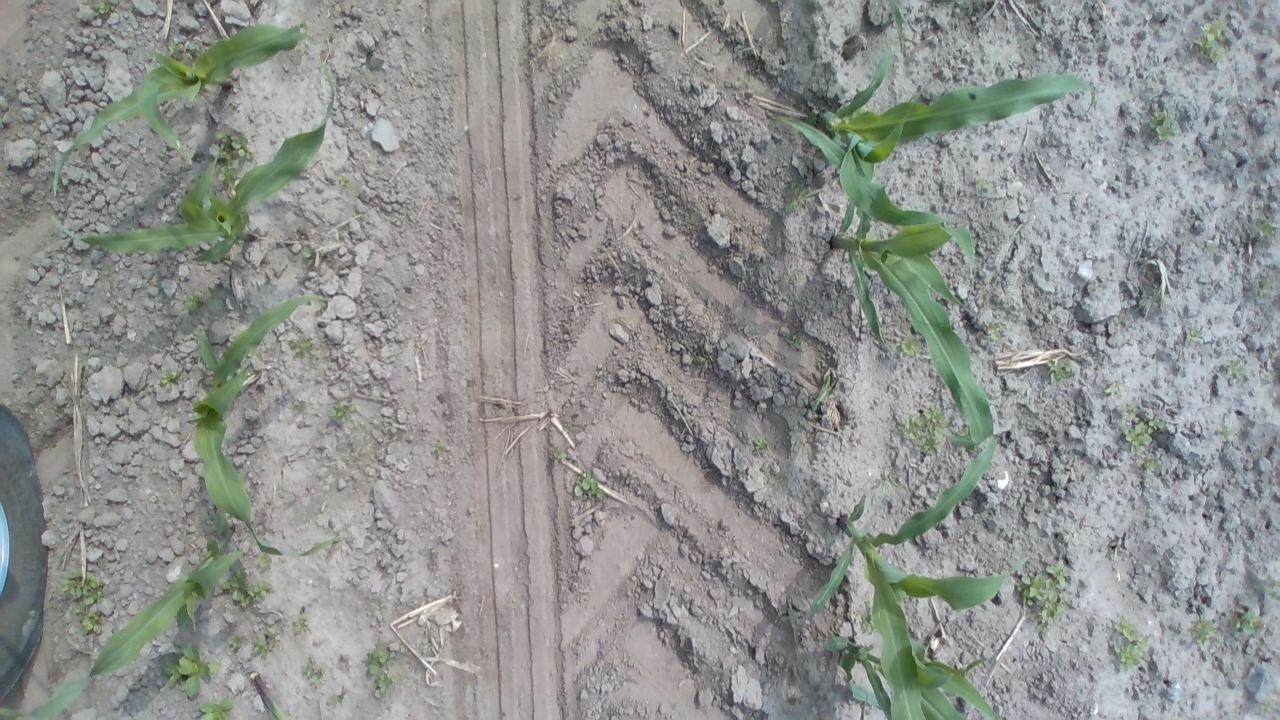Maize: (778, 115, 996, 450), (808, 435, 1030, 720), (50, 56, 336, 264), (806, 35, 1096, 227), (50, 23, 312, 202), (1, 548, 245, 720), (196, 292, 343, 557), (824, 633, 1000, 720), (248, 671, 290, 720), (888, 0, 904, 32)
Weeds: (1012, 559, 1070, 641), (160, 641, 221, 700), (894, 401, 950, 461), (1120, 400, 1166, 456), (361, 635, 399, 698), (1110, 614, 1151, 672), (223, 568, 276, 610), (58, 568, 105, 608), (1193, 18, 1227, 65), (1228, 600, 1262, 638), (1148, 104, 1178, 145), (1188, 616, 1222, 650), (572, 466, 606, 500), (216, 132, 254, 162), (193, 696, 236, 720), (298, 654, 328, 688), (812, 366, 834, 412), (876, 468, 903, 502), (74, 606, 104, 636), (784, 182, 812, 214), (1044, 356, 1074, 383), (289, 334, 321, 358), (326, 397, 353, 425), (896, 330, 922, 356), (1134, 450, 1159, 477), (1256, 574, 1280, 602), (324, 686, 350, 710), (1254, 274, 1277, 300), (971, 176, 995, 200), (1227, 355, 1249, 381), (168, 40, 200, 57), (218, 160, 238, 187), (982, 319, 1003, 341), (784, 333, 805, 354), (860, 605, 874, 635), (262, 626, 278, 650), (1259, 220, 1275, 244), (250, 635, 268, 656), (186, 294, 207, 312), (291, 612, 307, 635), (256, 554, 274, 574), (1218, 425, 1236, 445), (160, 370, 177, 391), (226, 635, 244, 653), (774, 470, 791, 489), (549, 446, 565, 466), (738, 70, 752, 92), (1104, 380, 1120, 399), (1120, 306, 1134, 326), (1185, 326, 1202, 342), (696, 352, 712, 369), (302, 245, 316, 264), (1258, 698, 1275, 713), (98, 0, 112, 14), (1202, 242, 1216, 256), (754, 436, 768, 450), (338, 174, 351, 188), (295, 400, 307, 412), (394, 430, 406, 441), (1269, 350, 1279, 361), (436, 444, 444, 456), (562, 422, 570, 430)
